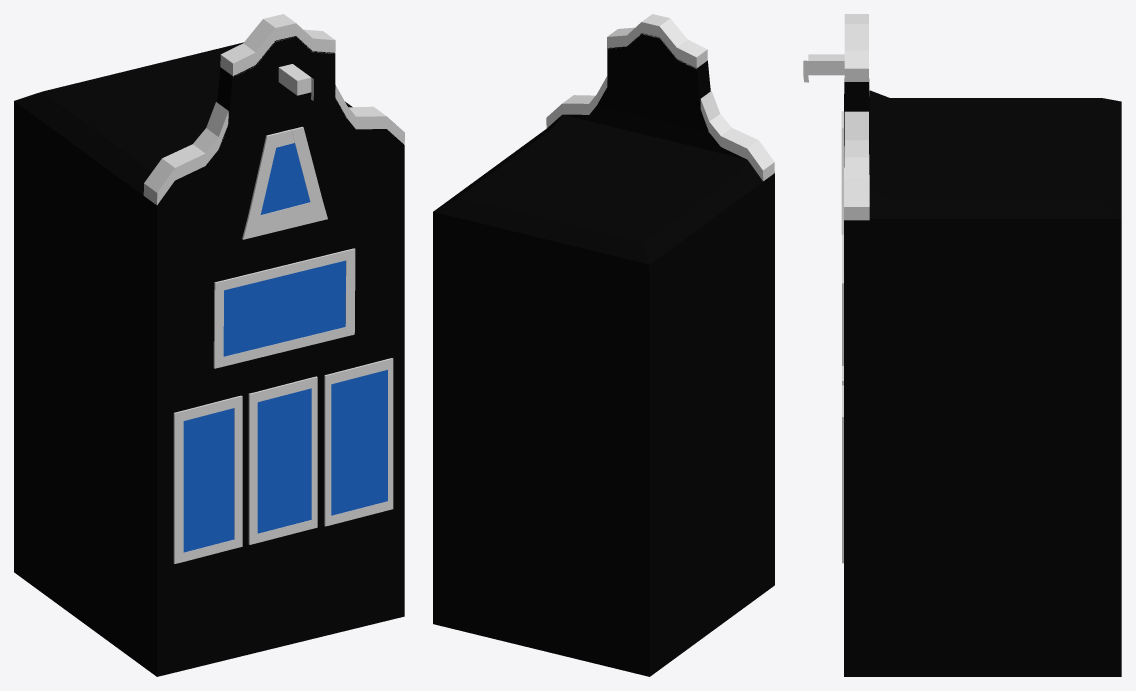
The model's file is House 1.fbx.
3 views of the same model, side by side, from view 1: azimuth 30°, elevation 25°; view 2: azimuth 150°, elevation 25°; view 3: azimuth 270°, elevation 25° (orthographic). The views are drawn at different scales.
Parts seen in each view (by area): view 1: House 1, House 1 Windows, House 1 Details; view 2: House 1, House 1 Details; view 3: House 1, House 1 Details.
Boxes of the visible parts, box(x1,y1,x2,y2) form: House 1: box(14, 36, 404, 676); House 1 Windows: box(183, 143, 387, 552); House 1 Details: box(143, 14, 404, 563); House 1: box(433, 33, 774, 676); House 1 Details: box(546, 14, 774, 181); House 1: box(844, 82, 1121, 676); House 1 Details: box(803, 14, 869, 563).
Size of the model in its own units: 200 by 478 by 229.
